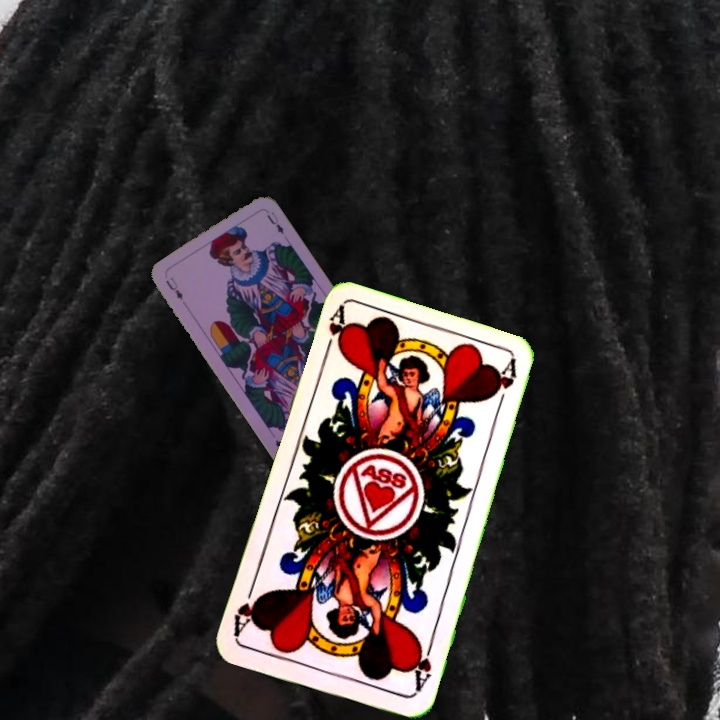EU: (162, 273, 186, 303)
HA: (319, 304, 351, 362), (407, 637, 436, 696)
